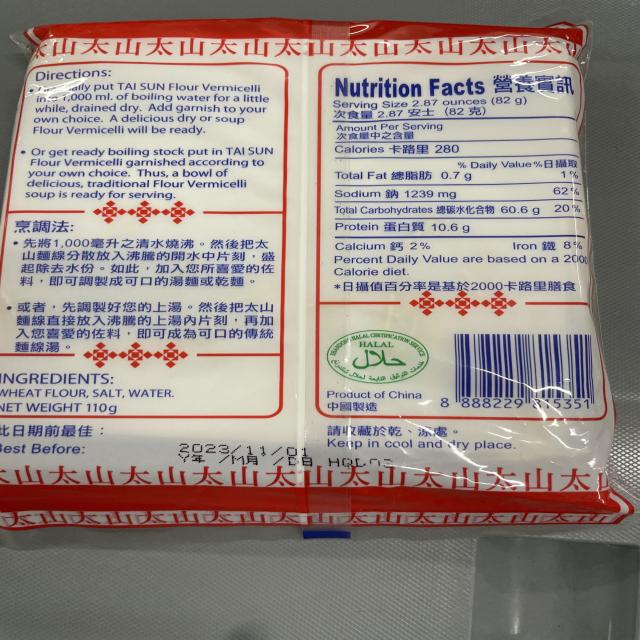object_name: (26, 30, 609, 518)
